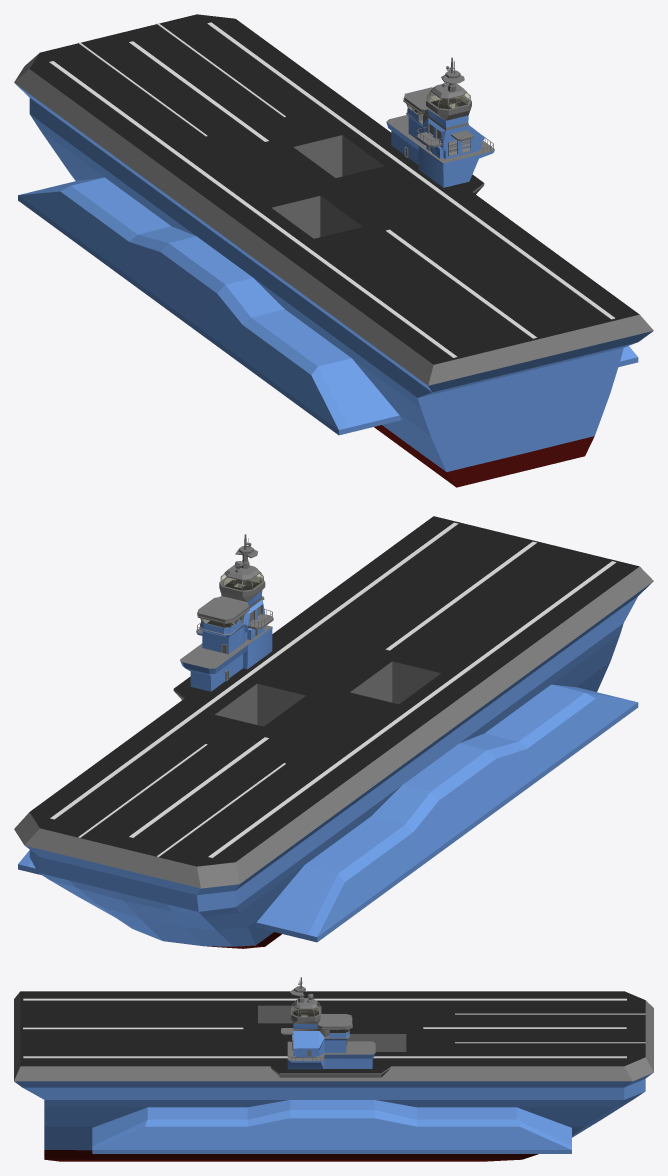
The model's file is Land carrier 4.glb.
3 renders of one model, top to bottom at view 1: azimuth 30°, elevation 25°; view 2: azimuth 150°, elevation 25°; view 3: azimuth 270°, elevation 25°, orthographic. The views are drawn at different scales.
Parts seen in each view (by area): view 1: Flight deck, main hull, side skirts, superstructure main island, Ramp outer, Elevators; view 2: Flight deck, side skirts, main hull, superstructure main island, Elevators; view 3: Flight deck, main hull, side skirts, superstructure main island, Elevators, Catapult 1, Catapult 2.
Boxes of the visible parts, left/top/right/bottom form: Flight deck: left=14, top=14, right=653, bottom=385; main hull: left=16, top=84, right=652, bottom=487; side skirts: left=18, top=177, right=638, bottom=435; superstructure main island: left=386, top=57, right=494, bottom=194; Ramp outer: left=471, top=385, right=569, bottom=459; Elevators: left=272, top=135, right=384, bottom=238; Flight deck: left=14, top=516, right=653, bottom=888; side skirts: left=18, top=684, right=638, bottom=942; main hull: left=25, top=581, right=653, bottom=948; superstructure main island: left=173, top=534, right=273, bottom=699; Elevators: left=215, top=661, right=440, bottom=726; Flight deck: left=14, top=991, right=653, bottom=1081; main hull: left=14, top=1072, right=653, bottom=1161; side skirts: left=92, top=1100, right=571, bottom=1153; superstructure main island: left=270, top=977, right=390, bottom=1077; Elevators: left=258, top=1005, right=406, bottom=1051; Catapult 1: left=455, top=1013, right=645, bottom=1014; Catapult 2: left=455, top=1042, right=645, bottom=1043.
Size of the model in its own units: 60.99 by 53.18 by 151.
